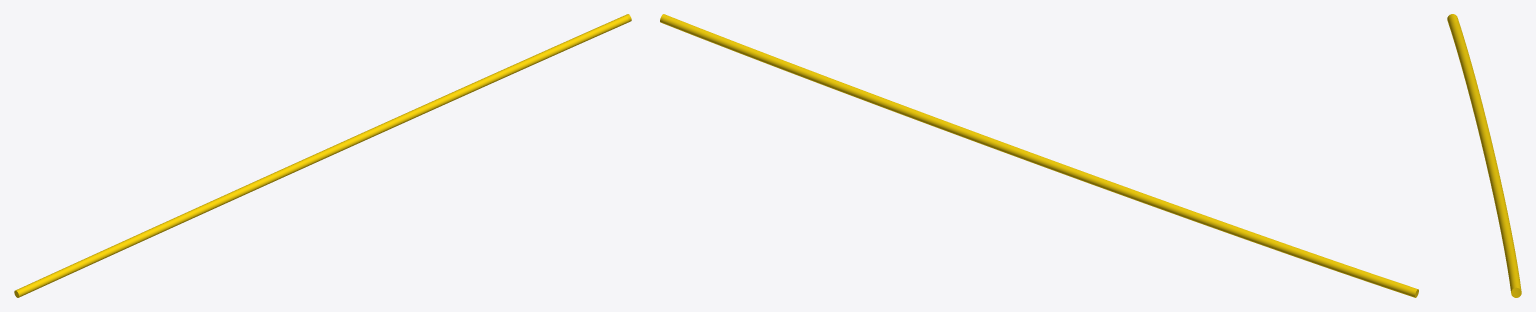
Rendered from Event_421278790_track_43.fbx.
3 views of the same model, side by side, from view 1: azimuth 30°, elevation 25°; view 2: azimuth 150°, elevation 25°; view 3: azimuth 270°, elevation 25° (orthographic). The views are drawn at different scales.
Visible parts, largest first — view 1: Model; view 2: Model; view 3: Model.
Boxes of the visible parts, <box> form: Model: <box>14,14,631,297</box>; Model: <box>660,14,1418,297</box>; Model: <box>1447,14,1521,297</box>.
Size of the model in its own units: 3.66 by 0.6062 by 0.2799.
